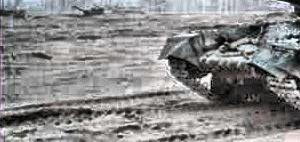tanks: (166, 21, 300, 112), (284, 1, 300, 16)
